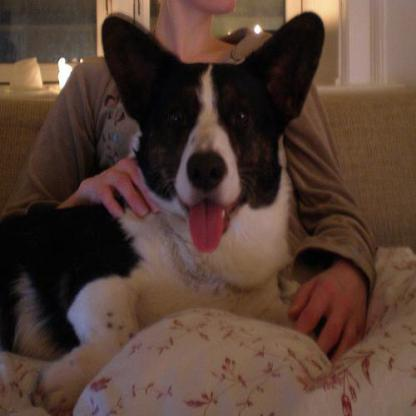Cardigan: (0, 8, 326, 413)
